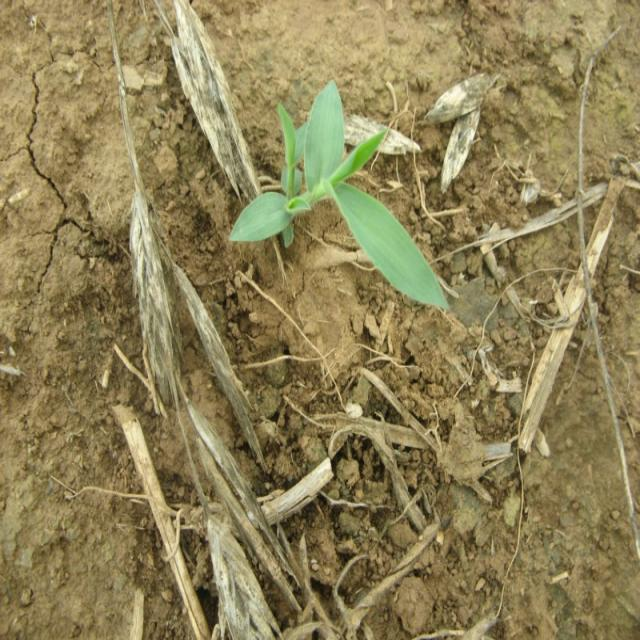bg: (228, 84, 452, 317)
